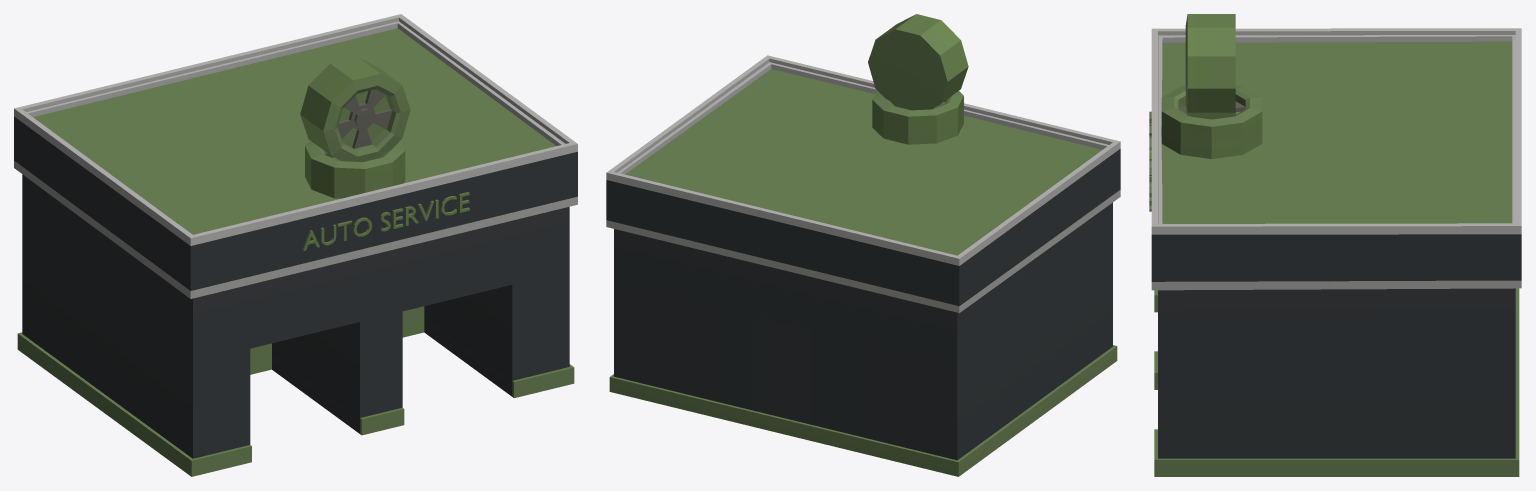
Rendered from AutoService_01.fbx.
The picture shows the model from 3 angles, left to right: view 1: azimuth 30°, elevation 25°; view 2: azimuth 150°, elevation 25°; view 3: azimuth 270°, elevation 25°; orthographic projection. The views are drawn at different scales.
Parts seen in each view (by area): view 1: AutoService_01; view 2: AutoService_01; view 3: AutoService_01.
Part boxes in pixels (x1,y1,x2,y2): AutoService_01: [14, 14, 577, 476]; AutoService_01: [606, 14, 1120, 476]; AutoService_01: [1149, 14, 1521, 476].
Bounding box in the file's own units: 8.93 × 7.54 × 7.11.
